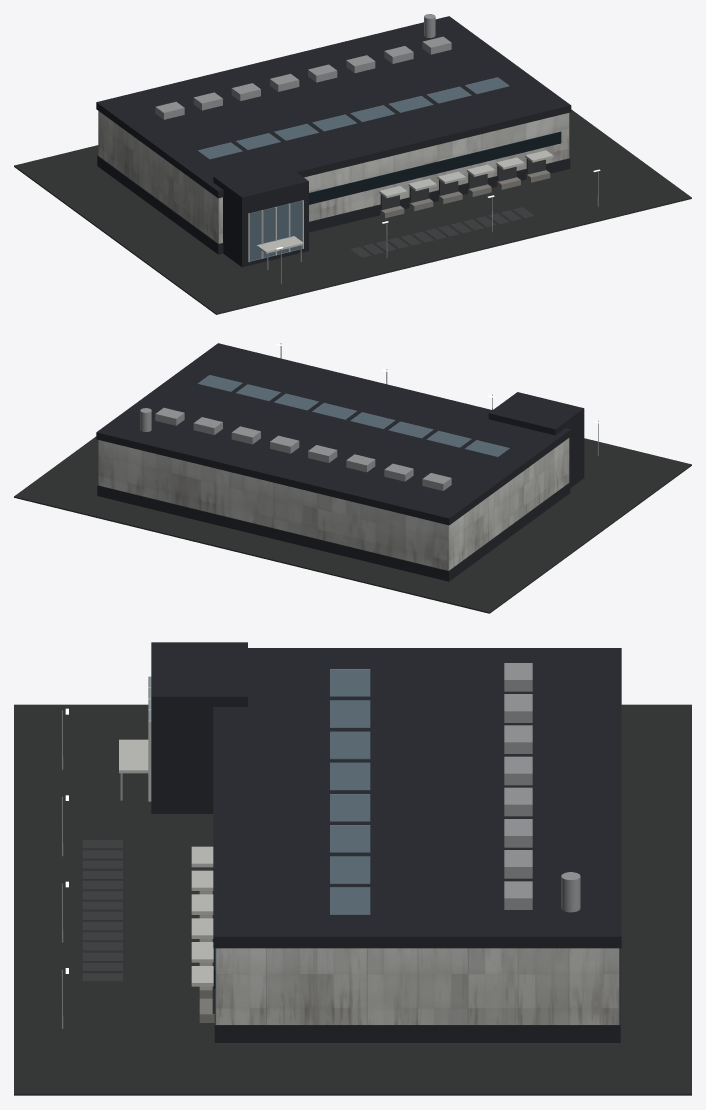
Rendered from EA08_factory_hall_large.glb.
3 views of the same model, one above another, from view 1: azimuth 30°, elevation 25°; view 2: azimuth 150°, elevation 25°; view 3: azimuth 270°, elevation 25° (orthographic). The views are drawn at different scales.
Parts seen in each view (by area): view 1: yard, hall, entrance_glazing, window_band, object 4; view 2: yard, hall, object 4, entrance_glazing; view 3: yard, hall, entrance_glazing, object 4.
Boxes of the visible parts, bbox=[...] form: yard: bbox=[14, 16, 691, 314]; hall: bbox=[98, 111, 569, 243]; entrance_glazing: bbox=[198, 77, 509, 261]; window_band: bbox=[309, 131, 561, 210]; object 4: bbox=[155, 14, 598, 283]; yard: bbox=[14, 343, 691, 613]; hall: bbox=[98, 438, 569, 570]; object 4: bbox=[140, 343, 598, 490]; entrance_glazing: bbox=[198, 375, 509, 456]; yard: bbox=[14, 642, 691, 1095]; hall: bbox=[215, 948, 619, 1024]; entrance_glazing: bbox=[149, 669, 370, 914]; object 4: bbox=[61, 663, 580, 1028].
Size of the model in its own units: 114 by 19.3 by 83.99.
6 materials, 1 textured.
